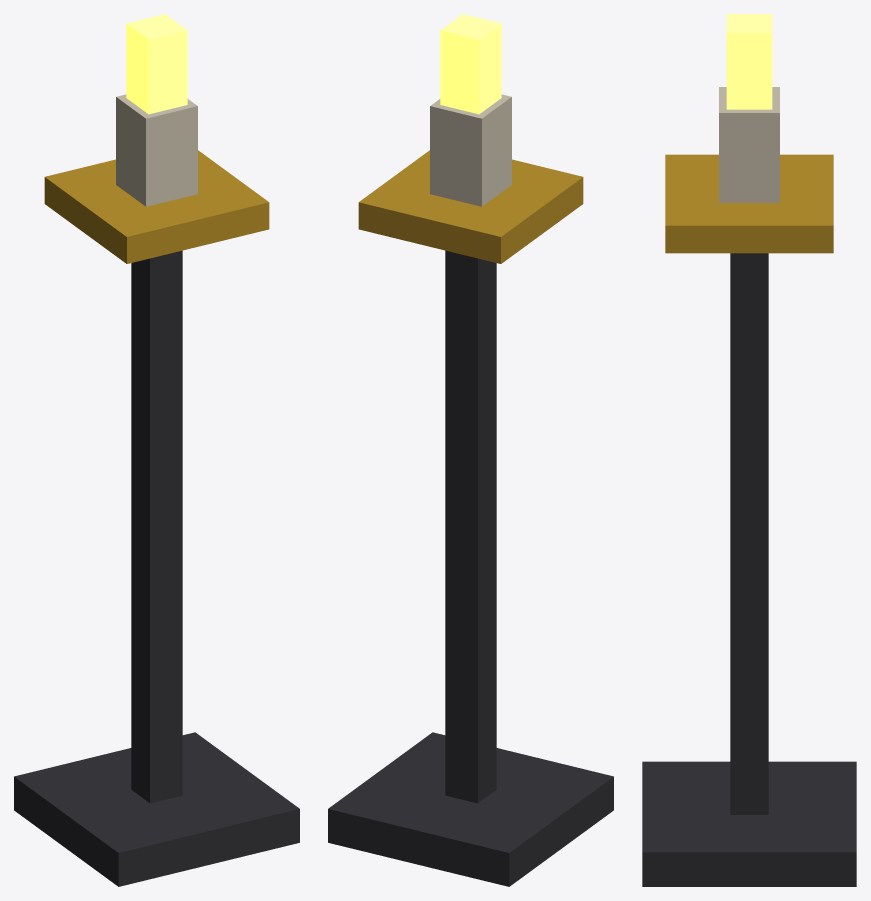
The model's file is ld-candle-stand.glb.
3 renders of one model, left to right at view 1: azimuth 30°, elevation 25°; view 2: azimuth 150°, elevation 25°; view 3: azimuth 270°, elevation 25°, orthographic. The views are drawn at different scales.
Visible parts, largest first — view 1: box-prop; view 2: box-prop; view 3: box-prop.
Part boxes in pixels (x1=…): box-prop: x1=14, y1=14, x2=299, y2=886; box-prop: x1=328, y1=14, x2=613, y2=886; box-prop: x1=642, y1=14, x2=856, y2=886.
Bounding box in the file's own units: 0.56 × 2.36 × 0.56.
